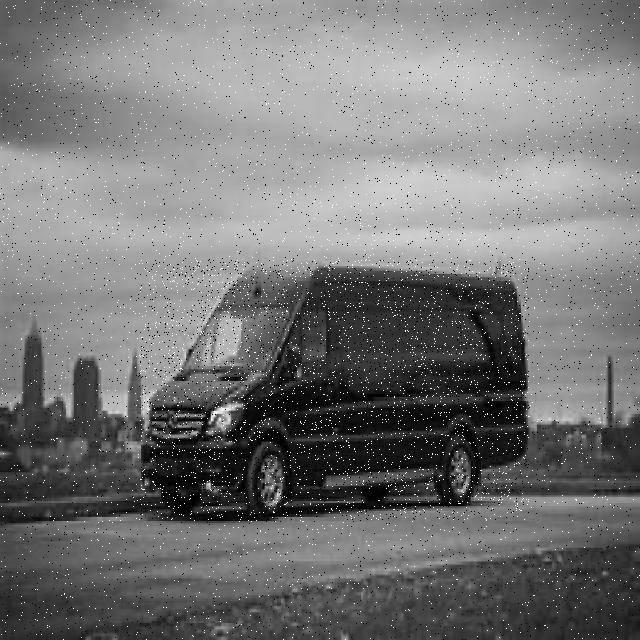Van: (140, 260, 529, 520)
